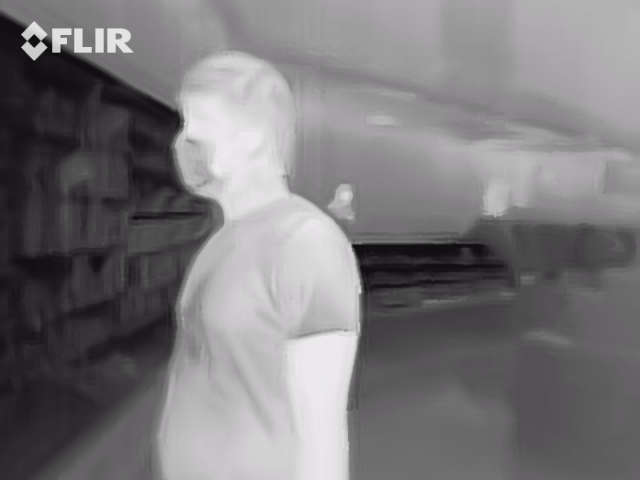head: (169, 50, 292, 201)
